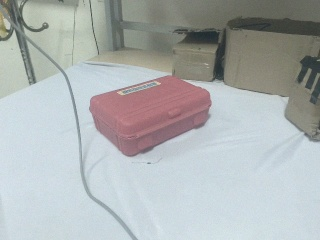box: (86, 76, 217, 160), (223, 17, 320, 98), (285, 55, 320, 141), (173, 29, 223, 81)
